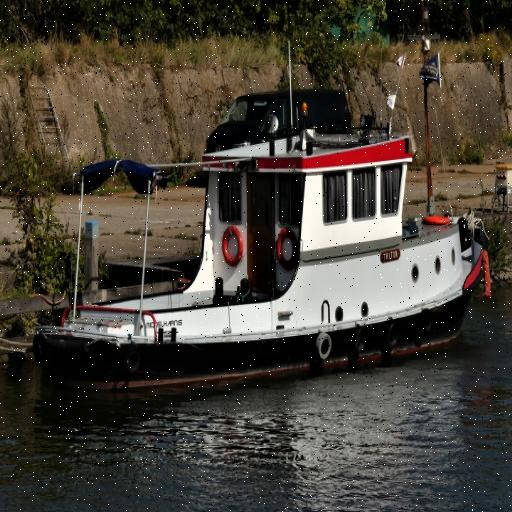tugboat: (30, 1, 495, 421)
